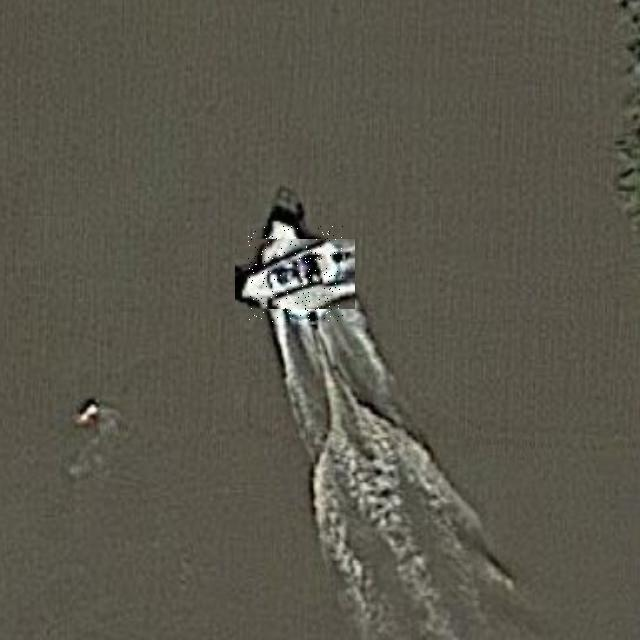boat: (248, 226, 343, 322)
